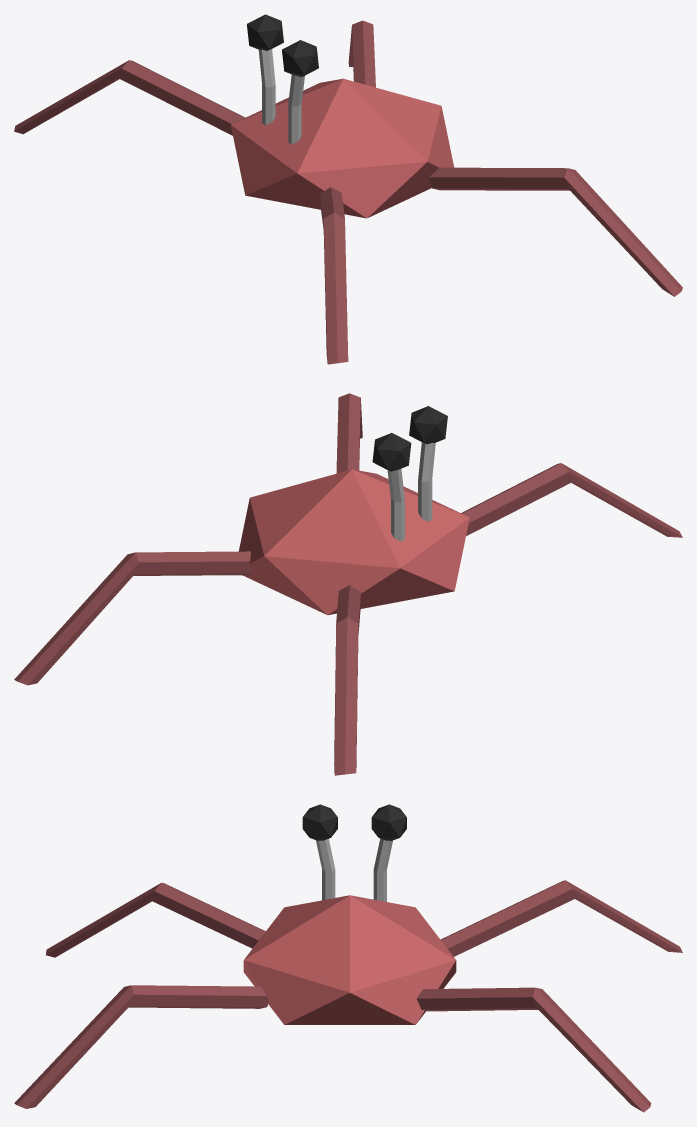
The model's file is crab.fbx.
The picture shows the model from 3 angles, top to bottom: view 1: azimuth 30°, elevation 25°; view 2: azimuth 150°, elevation 25°; view 3: azimuth 270°, elevation 25°; orthographic projection. The views are drawn at different scales.
Visible parts, largest first — view 1: Icosphere, Cylinder.001, Cylinder.002, Cylinder.003, Cylinder, Cylinder.004, Icosphere.002, Icosphere.001; view 2: Icosphere, Cylinder.004, Cylinder.002, Cylinder.003, Cylinder, Cylinder.001, Icosphere.001, Icosphere.002; view 3: Icosphere, Cylinder.001, Cylinder.004, Cylinder.002, Cylinder.003, Cylinder, Icosphere.001, Icosphere.002.
Boxes of the visible parts, bbox=[...] form: Icosphere: bbox=[231, 78, 454, 218]; Cylinder.001: bbox=[428, 167, 682, 296]; Cylinder.002: bbox=[14, 60, 245, 135]; Cylinder.003: bbox=[320, 187, 348, 364]; Cylinder: bbox=[258, 49, 304, 144]; Cylinder.004: bbox=[348, 20, 375, 87]; Icosphere.002: bbox=[282, 40, 318, 76]; Icosphere.001: bbox=[247, 14, 283, 50]; Icosphere: bbox=[238, 469, 469, 615]; Cylinder.004: bbox=[14, 551, 253, 685]; Cylinder.002: bbox=[334, 585, 360, 775]; Cylinder.003: bbox=[461, 463, 682, 537]; Cylinder: bbox=[387, 442, 435, 541]; Cylinder.001: bbox=[336, 393, 362, 473]; Icosphere.001: bbox=[372, 433, 411, 471]; Icosphere.002: bbox=[409, 406, 447, 444]; Icosphere: bbox=[243, 895, 456, 1024]; Cylinder.001: bbox=[14, 985, 268, 1108]; Cylinder.004: bbox=[416, 987, 651, 1112]; Cylinder.002: bbox=[440, 880, 682, 956]; Cylinder.003: bbox=[46, 882, 265, 957]; Cylinder: bbox=[316, 838, 392, 901]; Icosphere.001: bbox=[371, 804, 406, 840]; Icosphere.002: bbox=[302, 804, 337, 840].
Bounding box in the file's own units: 3196 × 1779 × 5494.
